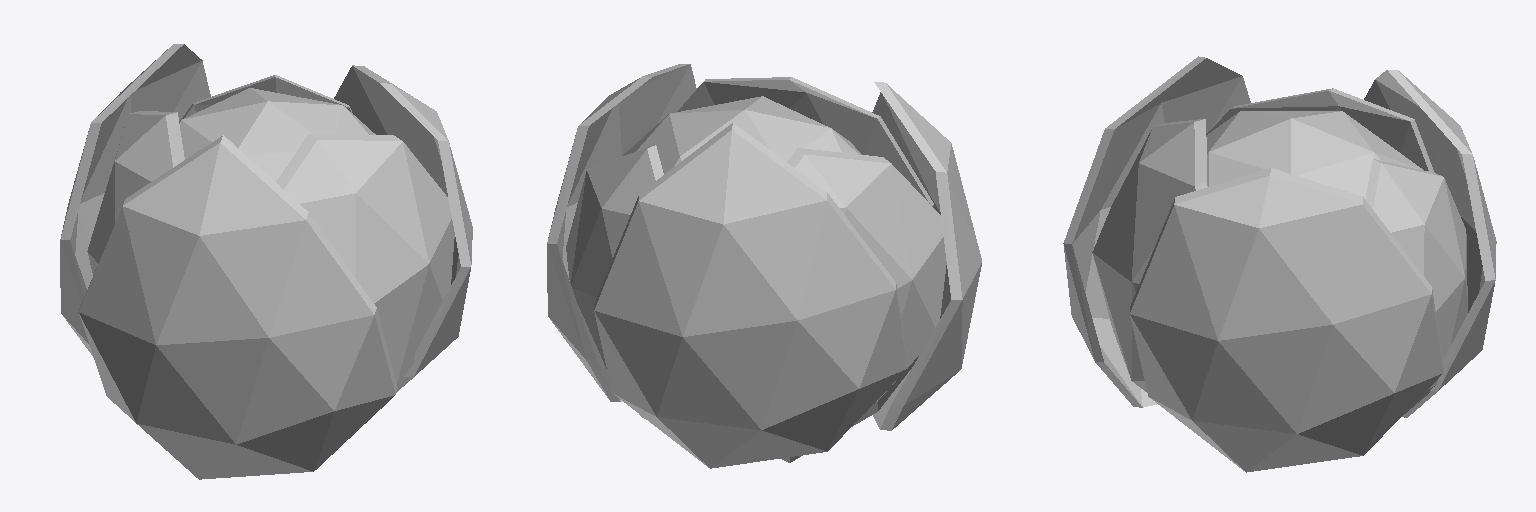
The model's file is cabbageStage2.obj.
3 views of the same model, side by side, from view 1: azimuth 30°, elevation 25°; view 2: azimuth 150°, elevation 25°; view 3: azimuth 270°, elevation 25° (orthographic).
Visible parts, largest first — view 1: Cabbage2; view 2: Cabbage2; view 3: Cabbage2.
Boxes of the visible parts, x1=… form: Cabbage2: x1=60, y1=44, x2=472, y2=479; Cabbage2: x1=547, y1=64, x2=981, y2=468; Cabbage2: x1=1063, y1=56, x2=1496, y2=472.
Bounding box in the file's own units: 0.4271 × 0.389 × 0.4306.